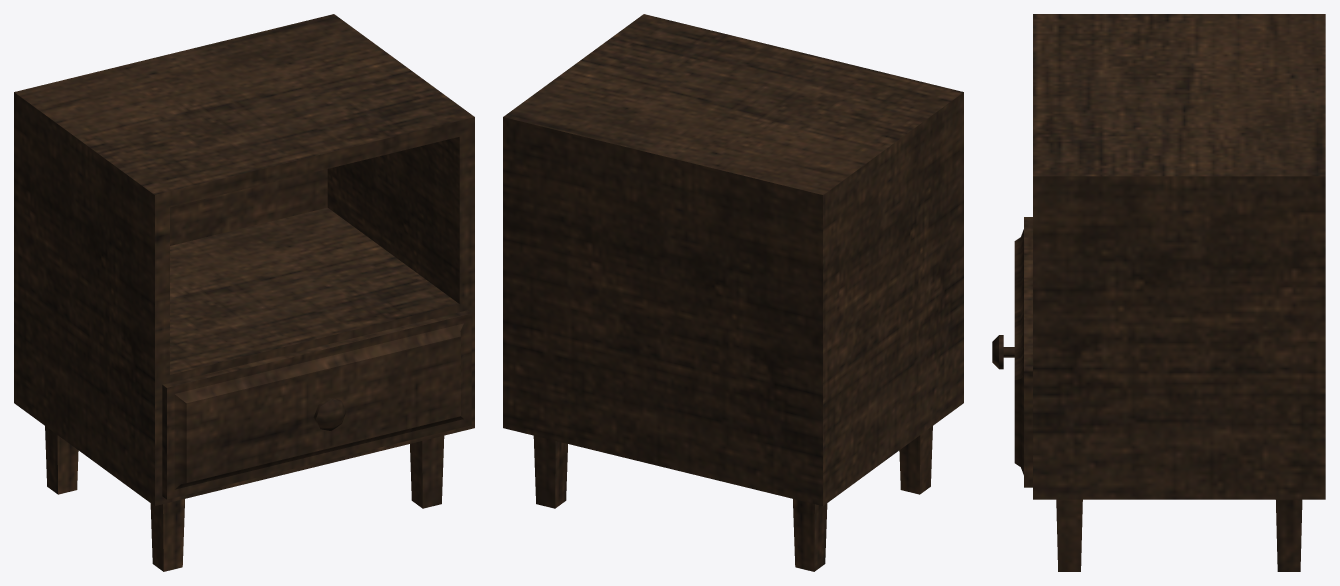
The model's file is bedside_table_2_1.obj.
3 renders of one model, left to right at view 1: azimuth 30°, elevation 25°; view 2: azimuth 150°, elevation 25°; view 3: azimuth 270°, elevation 25°, orthographic. The views are drawn at different scales.
Parts seen in each view (by area): view 1: bedside_table_2_1, bedside_table_2_1_drawer; view 2: bedside_table_2_1; view 3: bedside_table_2_1, bedside_table_2_1_drawer.
Boxes of the visible parts, bbox=[...] form: bedside_table_2_1: bbox=[14, 14, 474, 571]; bedside_table_2_1_drawer: bbox=[162, 310, 471, 499]; bedside_table_2_1: bbox=[503, 14, 963, 571]; bedside_table_2_1: bbox=[1033, 14, 1325, 571]; bedside_table_2_1_drawer: bbox=[992, 217, 1032, 487].
Size of the model in its own units: 0.504 by 0.588 by 0.4374.
